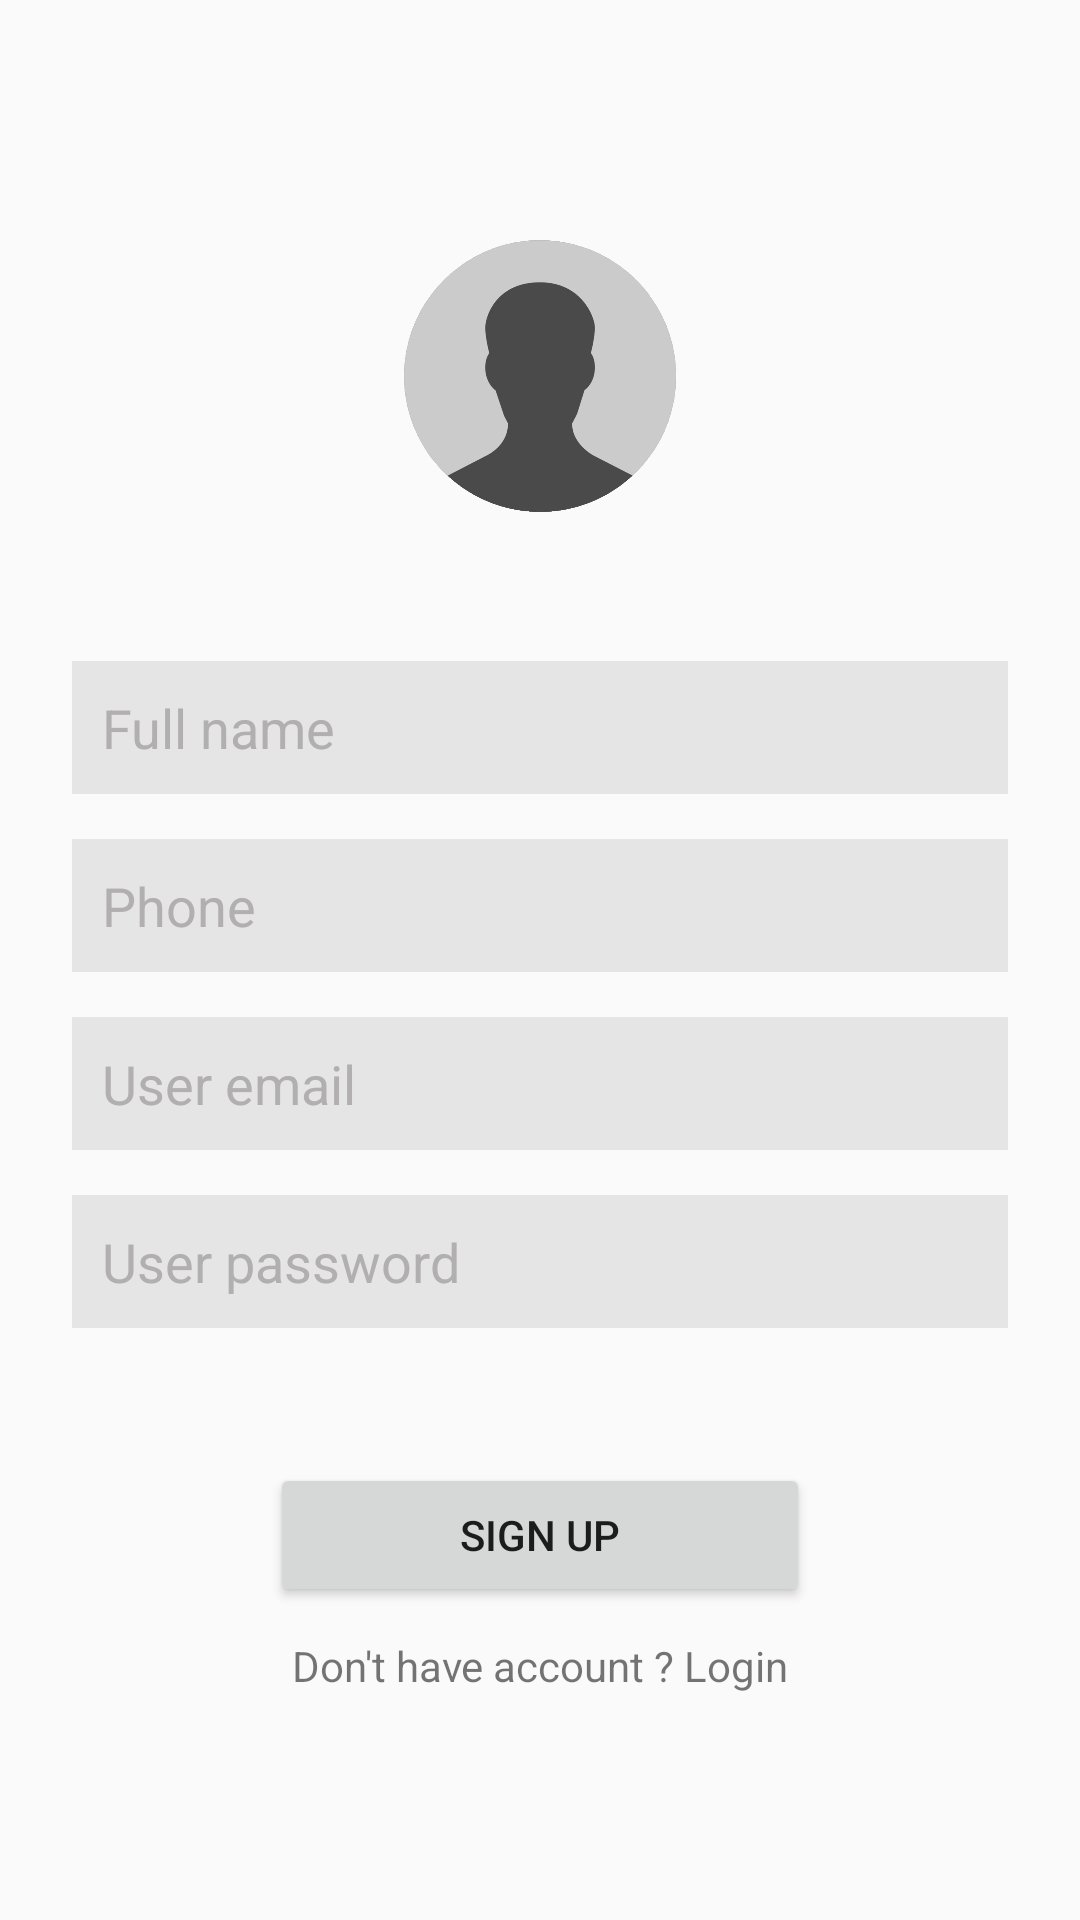

Screen size 1080*1920. Icon name, then its box in pixels as (x1=x1, y1=y1, x2=x2, y2=y2):
placeholderpng: (x1=404, y1=240, x2=676, y2=512)
